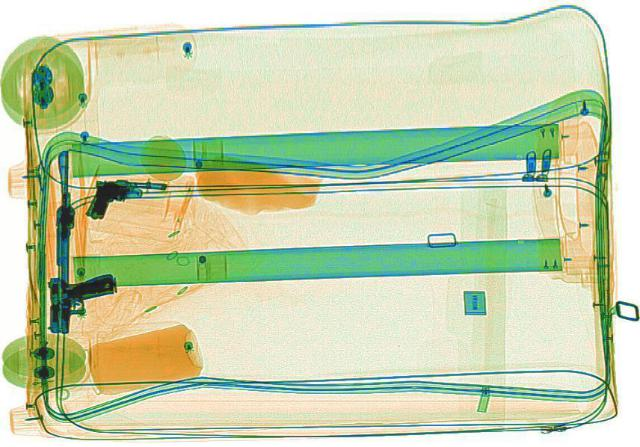Gun: (35, 266, 119, 337), (73, 169, 173, 219), (48, 150, 78, 293)
